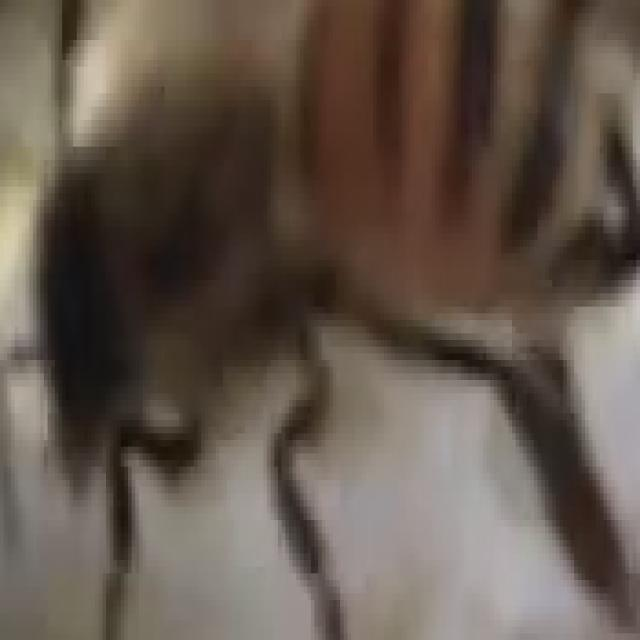honeybee: (19, 41, 632, 607)
